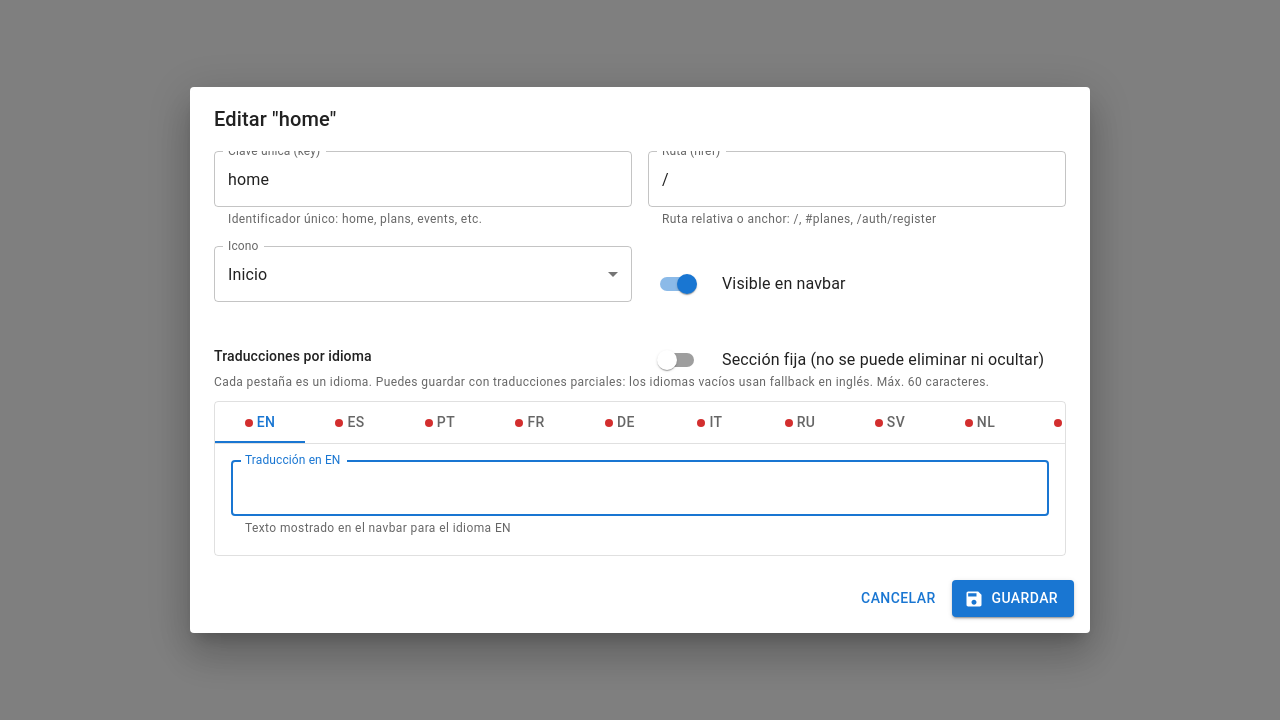
Test: NavbarSectionDialog › blocks saving when every translation is empty and shows an error
Click the button "Guardar" at (1013, 599), box [952, 580, 1074, 617]
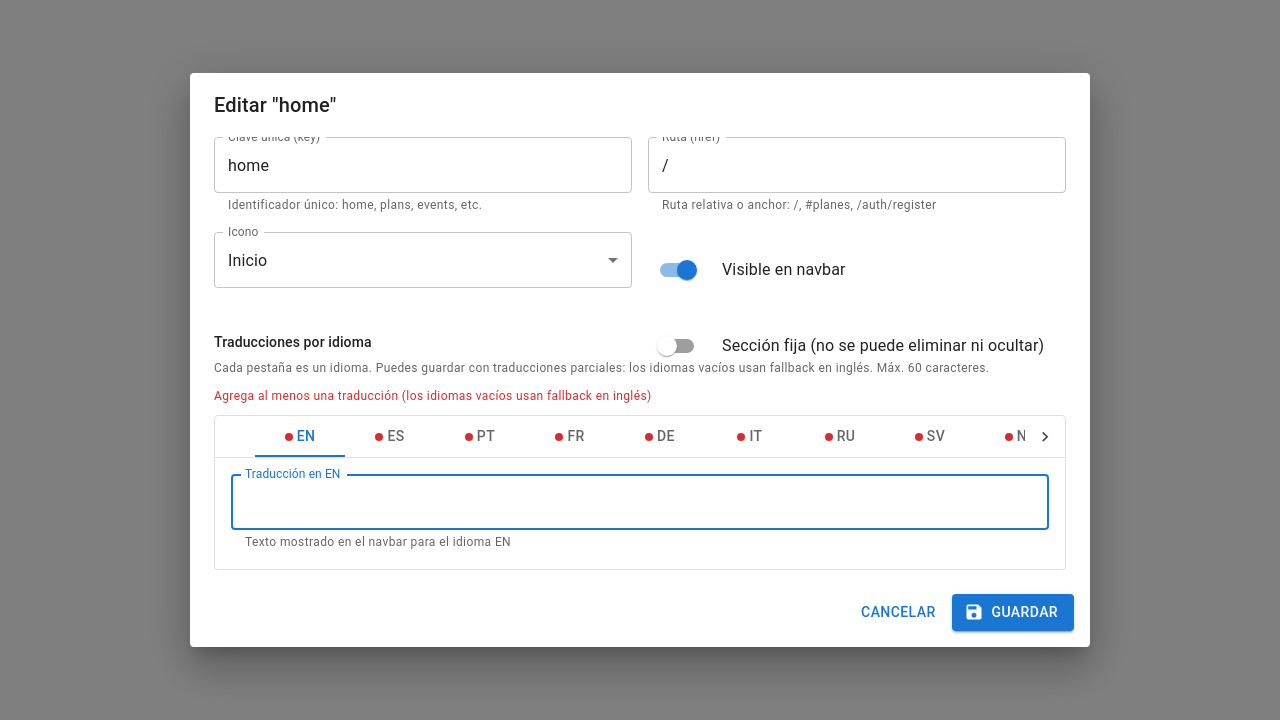
Result: the text "al menos una traducción" is shown at [214, 389, 652, 403]
